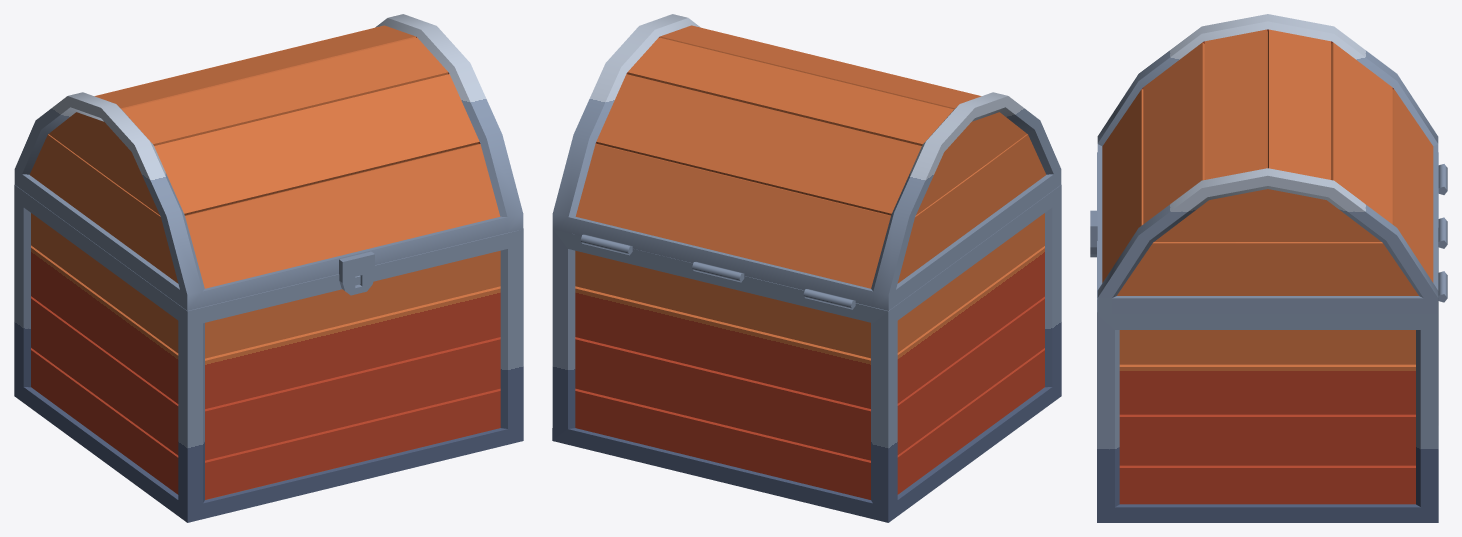
File: Chest.fbx
3 renders of one model, left to right at view 1: azimuth 30°, elevation 25°; view 2: azimuth 150°, elevation 25°; view 3: azimuth 270°, elevation 25°, orthographic.
Parts seen in each view (by area): view 1: Chest, ChestTop; view 2: Chest, ChestTop; view 3: ChestTop, Chest.
Part boxes in pixels (<box>): Chest: <box>14,184,523,522</box>; ChestTop: <box>14,14,523,310</box>; Chest: <box>552,184,1061,522</box>; ChestTop: <box>552,14,1061,310</box>; ChestTop: <box>1090,14,1438,313</box>; Chest: <box>1097,152,1447,522</box>.
Bounding box in the file's own units: 0.8256 × 0.8259 × 0.7707.
